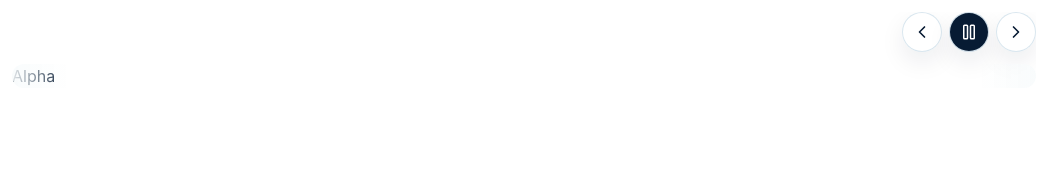
Scenario: AutoCarousel motion contract › pause button works independently of autoplay
Click the button named "Pause Controlled auto carousel".
click(969, 32)  # box left=949, top=12, right=989, bottom=52
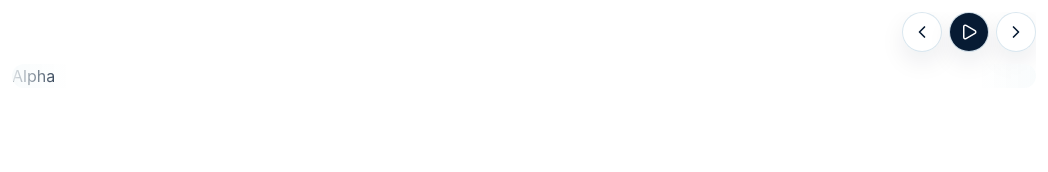
Expected: the element named "Controlled auto carousel" has attribute data-paused="true", left=12, top=12, right=1036, bottom=88
Click the button named "Play Controlled auto carousel".
click(969, 32)  # box left=949, top=12, right=989, bottom=52
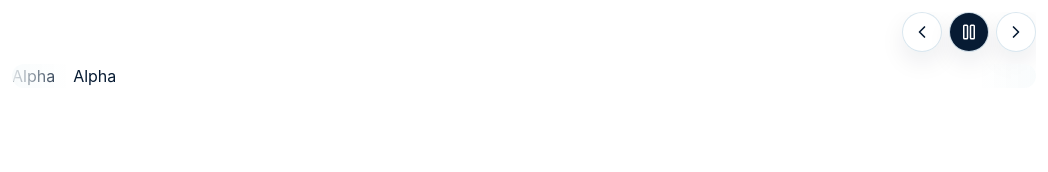
Expected: the element named "Controlled auto carousel" has attribute data-paused="false", left=12, top=12, right=1036, bottom=88
